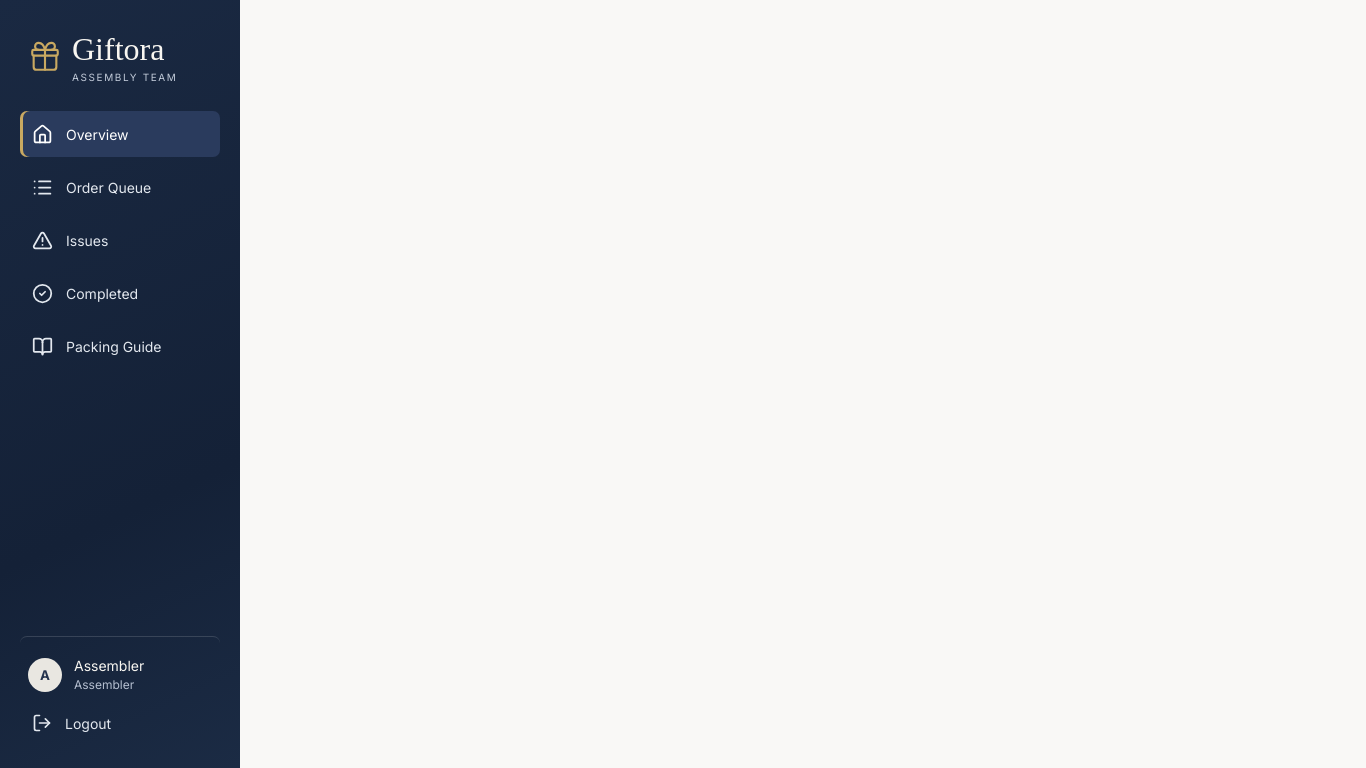
sidebar account link opens the profile and loads the authenticated account
Click the button with aria-label "View my profile".
click(120, 668)  # box [20,636,220,700]
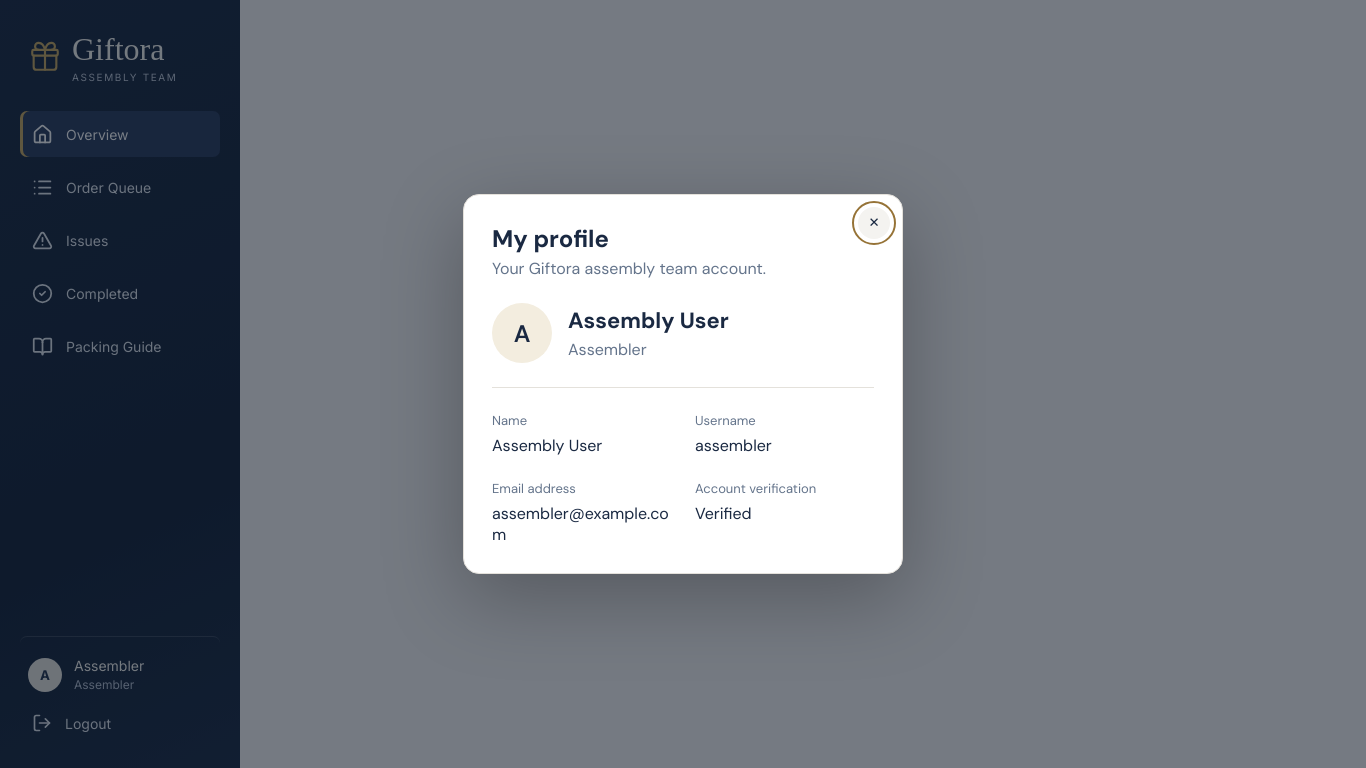
Expected: the text "Overview" is shown, [66,126,129,143]
Expected: the heading "My profile" is shown, [492,223,609,254]
Expected: the dialog shows "assembler@example.com", [492,503,669,545]
Click the button named "Close profile".
click(874, 223)  # box [858,207,890,239]
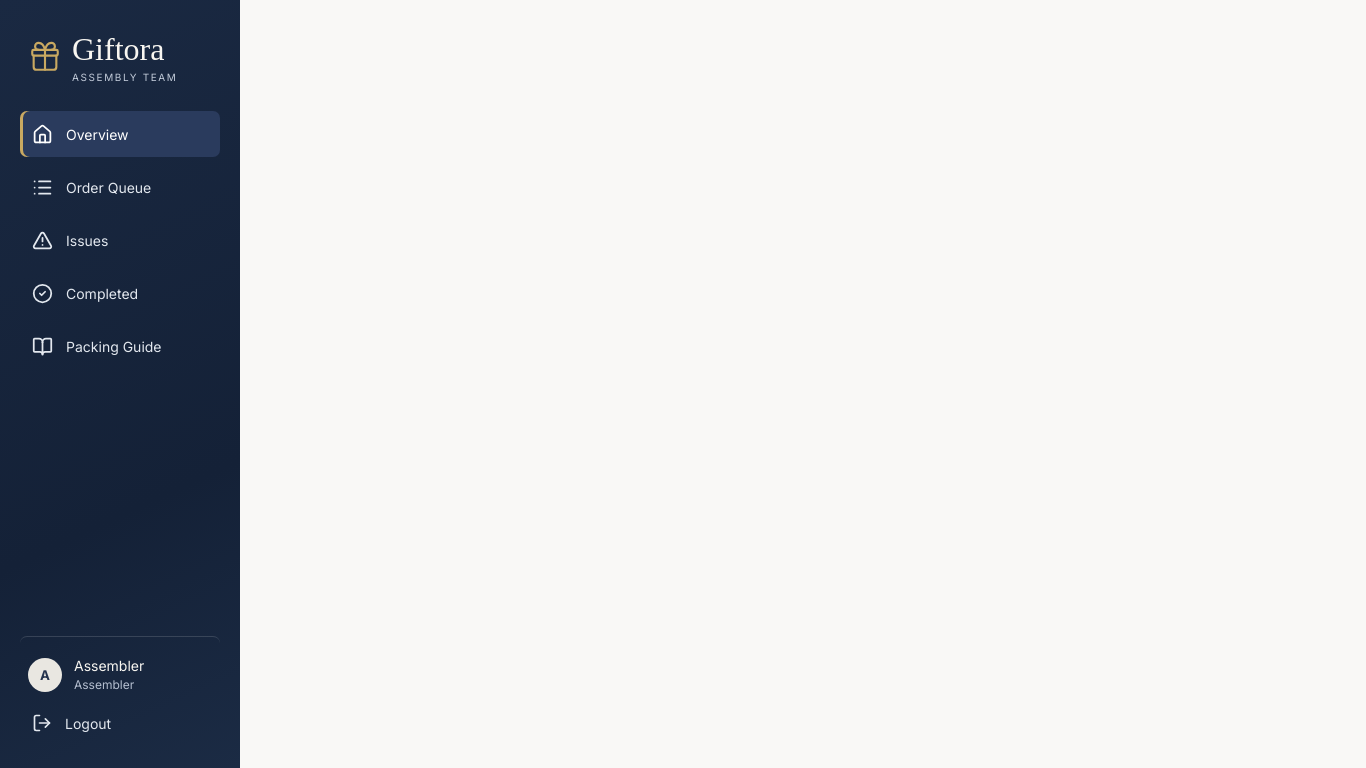
Expected: the dialog is gone
